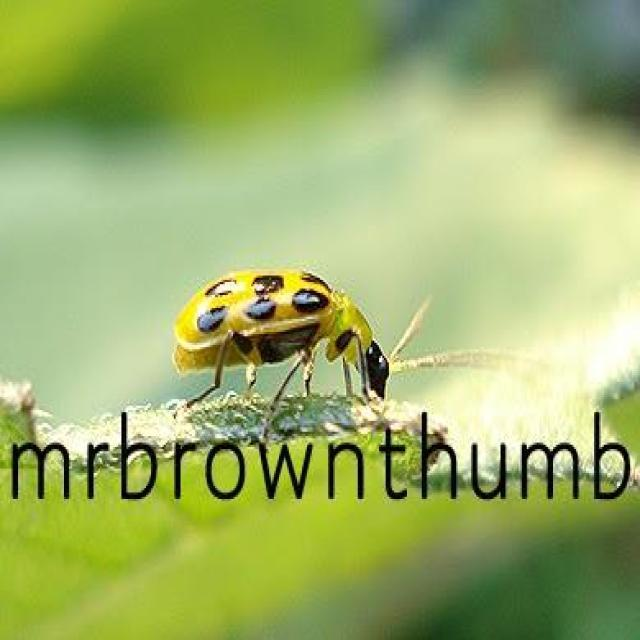gusano_verde: (173, 266, 554, 444)
